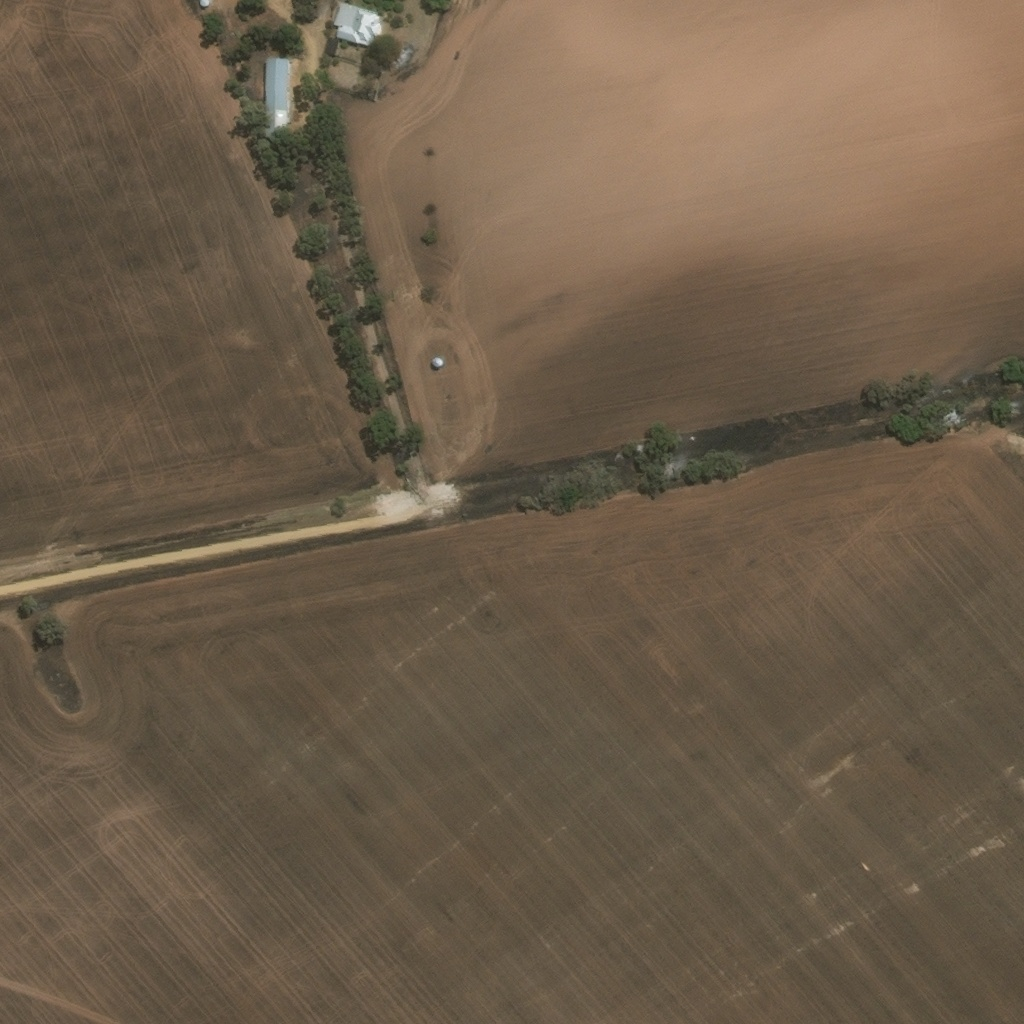0 no-damage: (331, 1, 388, 45), (265, 57, 292, 136), (202, 0, 211, 6)
